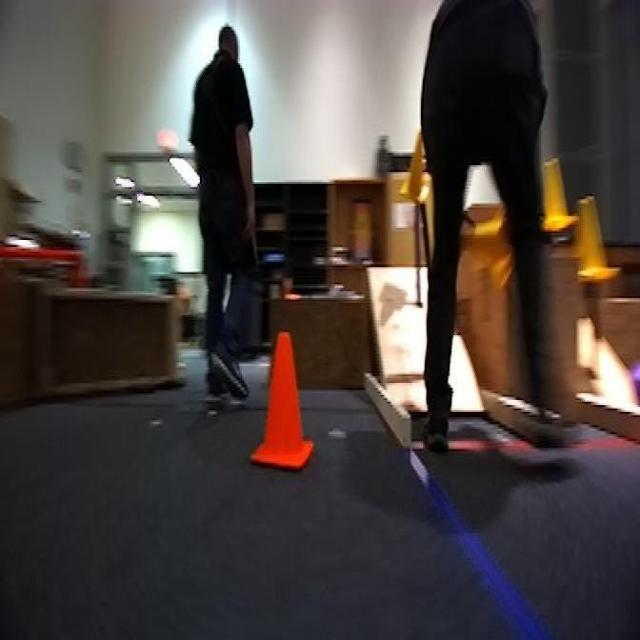frc_cone: (454, 190, 514, 278), (570, 196, 616, 284), (528, 160, 574, 238), (400, 134, 433, 202)
